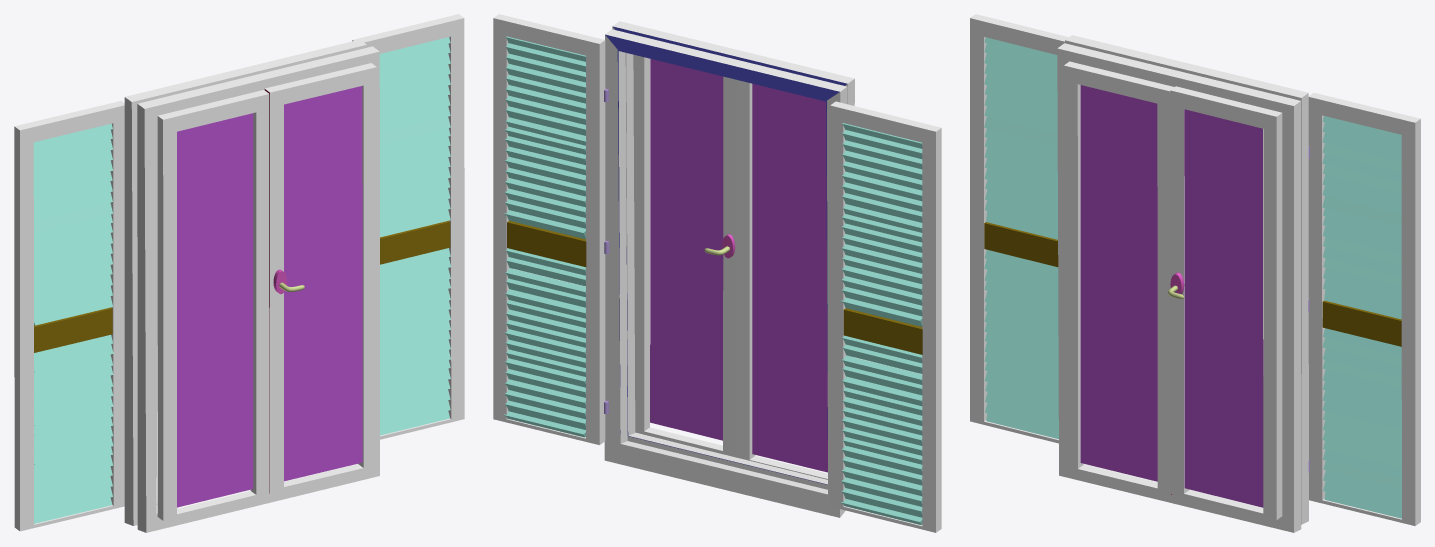
Rendered from ventana1.obj.
The picture shows the model from 3 angles, left to right: view 1: azimuth 30°, elevation 25°; view 2: azimuth 150°, elevation 25°; view 3: azimuth 330°, elevation 25°; orthographic projection.
Visible parts, largest first — view 1: door_window:cornice08, door_window:vetro, door_window:vetro01, door_window:cornice06, door_window:base_finestra_esterno, door_window:cornice05, door_window:barra_main02, door_window:barra_main01, door_window:stanghetta69, door_window:stanghetta82, door_window:stanghetta84, door_window:stanghetta78 (+64 smaller); view 2: door_window:vetro01, door_window:vetro, door_window:cornice08, door_window:base_finestra_esterno, door_window:cornice05, door_window:cornice06, door_window:barra_main02, door_window:barra_main01, door_window:stanghetta82, door_window:stanghetta74, door_window:stanghetta65, door_window:stanghetta28 (+66 smaller); view 3: door_window:cornice08, door_window:vetro, door_window:vetro01, door_window:cornice05, door_window:cornice06, door_window:base_finestra_esterno, door_window:barra_main01, door_window:barra_main02, door_window:stanghetta33, door_window:stanghetta46, door_window:stanghetta48, door_window:stanghetta42 (+65 smaller).
Boxes of the visible parts, x1,y1,x2,y2 form: door_window:cornice08: (137,46,379,532); door_window:vetro: (284,86,362,481); door_window:vetro01: (177,113,253,507); door_window:cornice06: (14,101,124,531); door_window:base_finestra_esterno: (124,39,366,525); door_window:cornice05: (352,14,464,439); door_window:barra_main02: (34,307,112,352); door_window:barra_main01: (380,220,450,264); door_window:stanghetta69: (34,202,112,232); door_window:stanghetta82: (34,375,113,405); door_window:stanghetta84: (34,354,113,384); door_window:stanghetta78: (34,296,112,325); door_window:vetro01: (752,83,827,472); door_window:vetro: (650,59,723,440); door_window:cornice08: (612,21,854,489); door_window:base_finestra_esterno: (604,29,847,517); door_window:cornice05: (493,14,605,444); door_window:cornice06: (830,101,941,532); door_window:barra_main02: (843,308,922,354); door_window:barra_main01: (507,220,586,267); door_window:stanghetta82: (842,376,922,406); door_window:stanghetta74: (842,244,922,273); door_window:stanghetta65: (842,150,922,180); door_window:stanghetta28: (506,64,586,93); door_window:cornice08: (1057,43,1301,532); door_window:vetro: (1184,109,1263,507); door_window:vetro01: (1080,85,1157,481); door_window:cornice05: (1308,92,1420,525); door_window:cornice06: (970,14,1068,443); door_window:base_finestra_esterno: (1065,35,1308,524); door_window:barra_main01: (1322,300,1401,346); door_window:barra_main02: (984,222,1058,267); door_window:stanghetta33: (1322,196,1401,225); door_window:stanghetta46: (1323,369,1401,399); door_window:stanghetta48: (1323,348,1401,378); door_window:stanghetta42: (1324,289,1401,319).
Bounding box in the file's own units: 11.91 × 10.93 × 2.02.
Materials: 10 (2 with a texture image).
